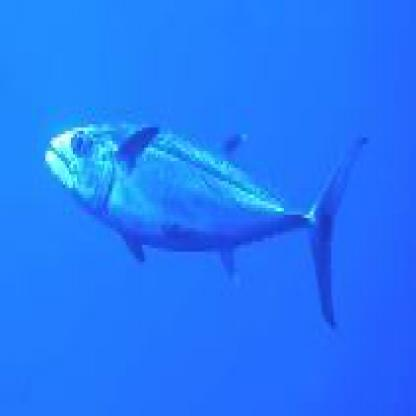tuna: (33, 98, 370, 347)
